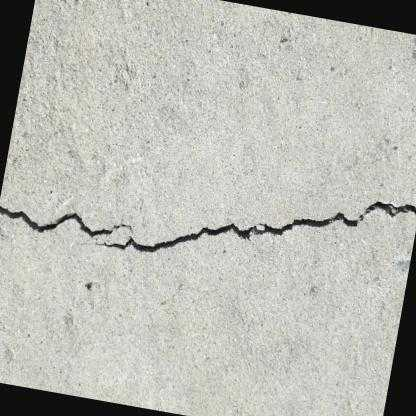crack: (97, 198, 416, 252), (0, 204, 130, 237)
